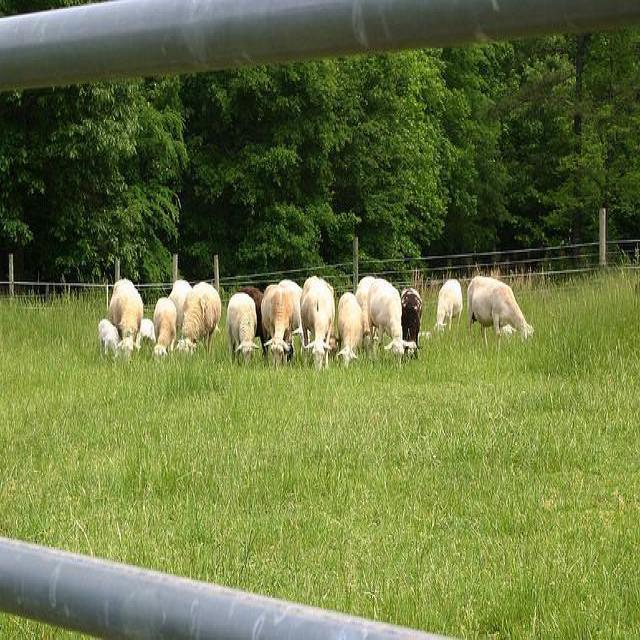Sheep: (356, 273, 416, 366), (467, 276, 537, 351), (300, 276, 334, 374), (108, 277, 145, 363), (182, 279, 221, 357), (261, 284, 295, 368), (227, 294, 260, 367)
